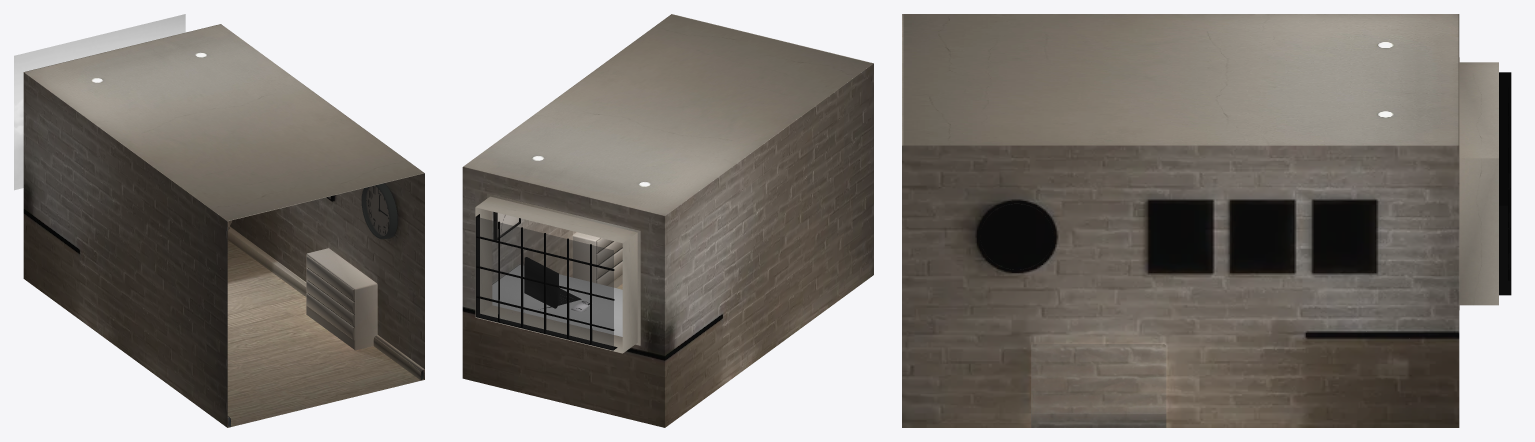
Rendered from office.glb.
3 views of the same model, side by side, from view 1: azimuth 30°, elevation 25°; view 2: azimuth 150°, elevation 25°; view 3: azimuth 270°, elevation 25° (orthographic). The views are drawn at different scales.
Parts seen in each view (by area): view 1: Small Office_Wall_0, Small Office_Roof_0, Small Office_Floor_0, Small Office_Cupboard_0, Backdrop_Backdrop_0, Small Office_SkirtingBoard_0, Small Office_ClockWindow_0, Small Office_Clockface_0, Small Office_ClockOutside_0; view 2: Small Office_Wall_0, Small Office_Roof_0, Small Office_Window_0, Small Office_WindowFrame_0, Small Office_Cupboard_0; view 3: Small Office_Wall_0, Small Office_Roof_0, Small Office_Cupboard_0, Small Office_WindowFrame_0.
Boxes of the visible parts, bbox=[...] form: Small Office_Wall_0: bbox=[23, 72, 424, 427]; Small Office_Roof_0: bbox=[24, 24, 424, 221]; Small Office_Floor_0: bbox=[227, 240, 424, 427]; Small Office_Cupboard_0: bbox=[306, 248, 377, 350]; Backdrop_Backdrop_0: bbox=[14, 14, 185, 190]; Small Office_SkirtingBoard_0: bbox=[227, 226, 424, 426]; Small Office_ClockWindow_0: bbox=[363, 186, 388, 236]; Small Office_Clockface_0: bbox=[366, 185, 389, 235]; Small Office_ClockOutside_0: bbox=[361, 183, 397, 239]; Small Office_Wall_0: bbox=[462, 63, 873, 427]; Small Office_Roof_0: bbox=[463, 14, 873, 353]; Small Office_Window_0: bbox=[476, 217, 613, 349]; Small Office_WindowFrame_0: bbox=[475, 214, 622, 350]; Small Office_Cupboard_0: bbox=[572, 232, 622, 287]; Small Office_Wall_0: bbox=[902, 145, 1459, 427]; Small Office_Roof_0: bbox=[902, 14, 1498, 309]; Small Office_Cupboard_0: bbox=[1031, 344, 1166, 427]; Small Office_WindowFrame_0: bbox=[1499, 72, 1511, 295].
Size of the model in its own units: 2.51 by 2.5 by 4.97.
24 materials, 24 textured.
